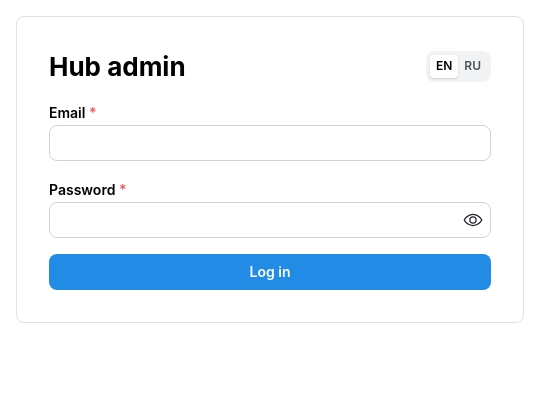
Test: says the email or the password is wrong, and stays on the page
Type "boss@example.com" into the field labelled "Email *".
click(270, 143); type("boss@example.com")  # box [49, 125, 491, 161]
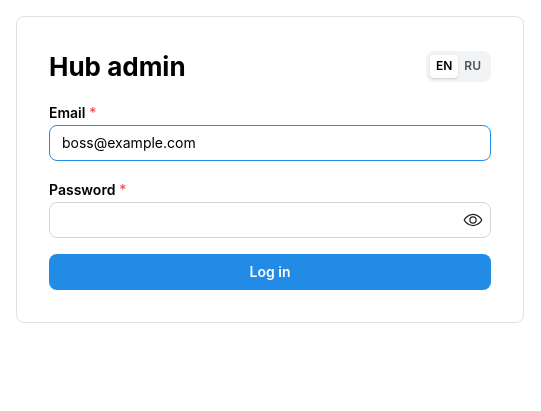
Type "secret-pass" into the password field labelled "Password *".
click(270, 220); type("secret-pass")  # box [50, 203, 490, 237]
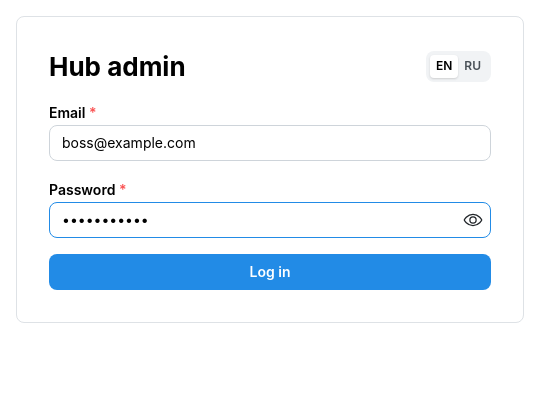
Click the button "Log in".
click(270, 272)  # box [49, 254, 491, 290]
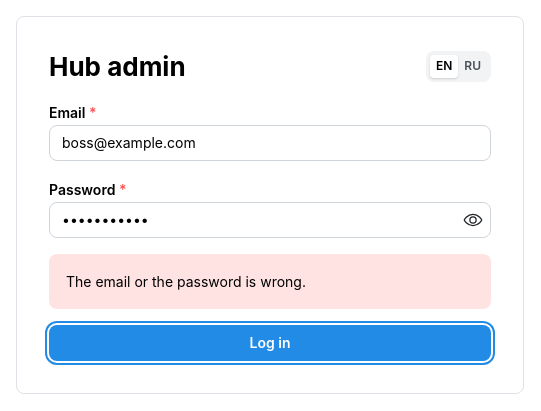
Now the message reads "The email or the password is wrong.", box [66, 273, 306, 290]
